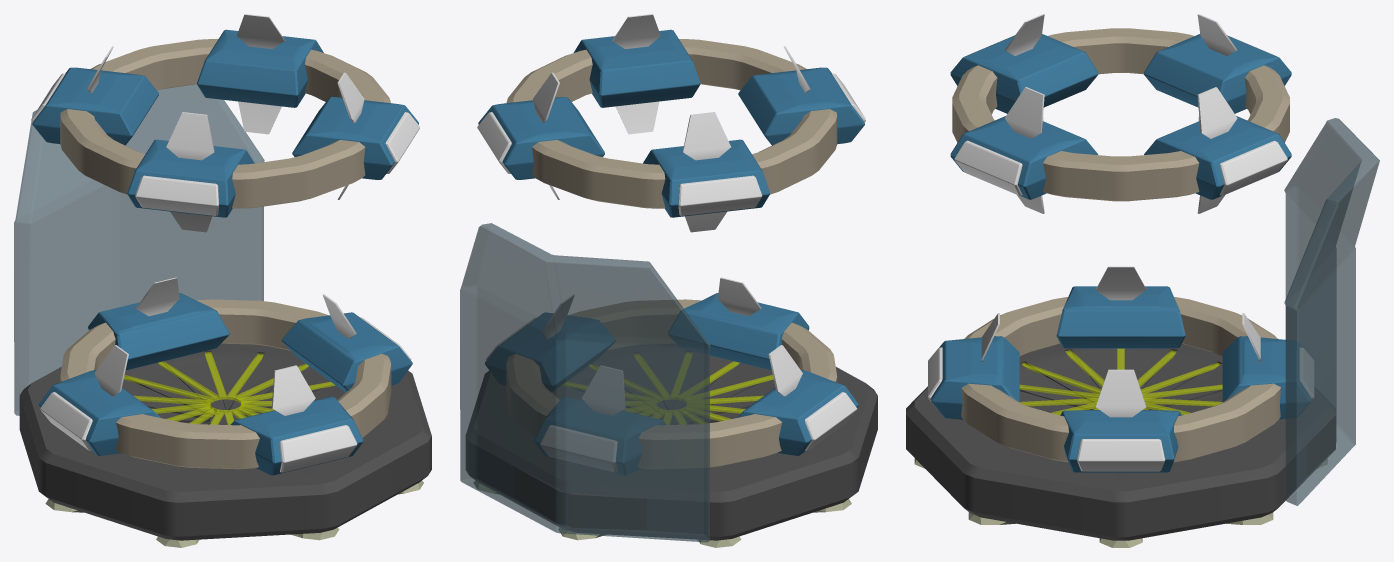
The model's file is accessPanel.fbx.
The picture shows the model from 3 angles, left to right: view 1: azimuth 30°, elevation 25°; view 2: azimuth 150°, elevation 25°; view 3: azimuth 270°, elevation 25°; orthographic projection.
Parts seen in each view (by area): view 1: polySurface12; view 2: polySurface12; view 3: polySurface12.
Boxes of the visible parts, bbox=[...] form: polySurface12: bbox=[14, 14, 431, 547]; polySurface12: bbox=[460, 14, 877, 547]; polySurface12: bbox=[906, 14, 1379, 547].
Bounding box in the file's own units: 197 × 216 × 217.
